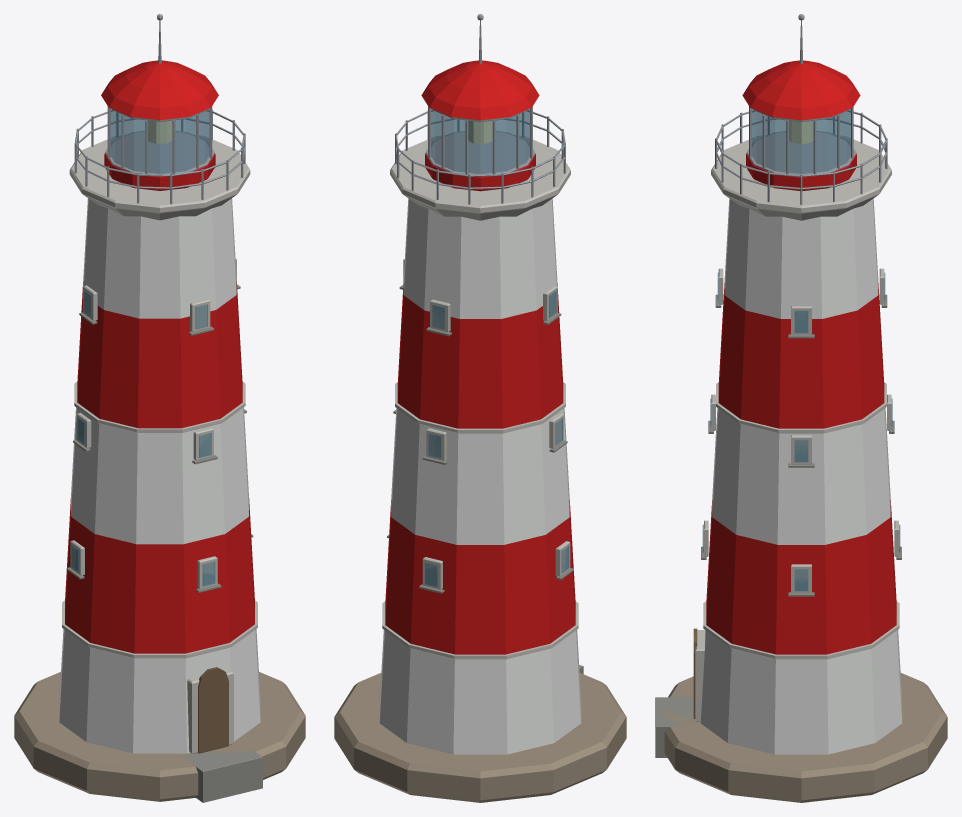
Rendered from HARBOR_06.obj.
3 renders of one model, left to right at view 1: azimuth 30°, elevation 25°; view 2: azimuth 150°, elevation 25°; view 3: azimuth 270°, elevation 25°, orthographic.
Visible parts, largest first — view 1: HARBOR_06__tower_white_paint, HARBOR_06__tower_traffic_red, HARBOR_06__plinth, HARBOR_06__gallery_floor, HARBOR_06__dome, HARBOR_06__lantern_glass, HARBOR_06__lantern_ring, HARBOR_06__window_frame, HARBOR_06__steps, HARBOR_06__tower_band_trim, HARBOR_06__door, HARBOR_06__window (+8 smaller); view 2: HARBOR_06__tower_white_paint, HARBOR_06__tower_traffic_red, HARBOR_06__plinth, HARBOR_06__gallery_floor, HARBOR_06__dome, HARBOR_06__lantern_glass, HARBOR_06__lantern_ring, HARBOR_06__window_frame, HARBOR_06__tower_band_trim, HARBOR_06__window, HARBOR_06__railing_rails, HARBOR_06__lantern_base (+5 smaller); view 3: HARBOR_06__tower_white_paint, HARBOR_06__tower_traffic_red, HARBOR_06__plinth, HARBOR_06__gallery_floor, HARBOR_06__dome, HARBOR_06__lantern_glass, HARBOR_06__lantern_ring, HARBOR_06__window_frame, HARBOR_06__tower_band_trim, HARBOR_06__railing_rails, HARBOR_06__steps, HARBOR_06__lantern_base (+7 smaller).
Part boxes in pixels (x1=…): HARBOR_06__tower_white_paint: x1=59, y1=198, x2=260, y2=753; HARBOR_06__tower_traffic_red: x1=65, y1=281, x2=254, y2=653; HARBOR_06__plinth: x1=14, y1=672, x2=305, y2=801; HARBOR_06__gallery_floor: x1=69, y1=135, x2=250, y2=213; HARBOR_06__dome: x1=101, y1=60, x2=218, y2=120; HARBOR_06__lantern_glass: x1=110, y1=108, x2=209, y2=173; HARBOR_06__lantern_ring: x1=105, y1=109, x2=214, y2=176; HARBOR_06__window_frame: x1=70, y1=259, x2=236, y2=588; HARBOR_06__steps: x1=183, y1=750, x2=262, y2=802; HARBOR_06__tower_band_trim: x1=62, y1=382, x2=257, y2=658; HARBOR_06__door: x1=198, y1=681, x2=228, y2=753; HARBOR_06__window: x1=71, y1=290, x2=215, y2=586; HARBOR_06__tower_white_paint: x1=379, y1=198, x2=581, y2=754; HARBOR_06__tower_traffic_red: x1=385, y1=283, x2=575, y2=654; HARBOR_06__plinth: x1=334, y1=673, x2=626, y2=802; HARBOR_06__gallery_floor: x1=390, y1=135, x2=570, y2=213; HARBOR_06__dome: x1=421, y1=60, x2=539, y2=120; HARBOR_06__lantern_glass: x1=431, y1=109, x2=529, y2=173; HARBOR_06__lantern_ring: x1=425, y1=109, x2=535, y2=176; HARBOR_06__window_frame: x1=403, y1=259, x2=570, y2=589; HARBOR_06__tower_band_trim: x1=382, y1=382, x2=578, y2=659; HARBOR_06__window: x1=425, y1=290, x2=569, y2=586; HARBOR_06__railing_rails: x1=395, y1=110, x2=565, y2=189; HARBOR_06__lantern_base: x1=425, y1=153, x2=535, y2=191; HARBOR_06__tower_white_paint: x1=700, y1=198, x2=902, y2=754; HARBOR_06__tower_traffic_red: x1=706, y1=283, x2=896, y2=654; HARBOR_06__plinth: x1=661, y1=673, x2=947, y2=802; HARBOR_06__gallery_floor: x1=711, y1=135, x2=891, y2=213; HARBOR_06__dome: x1=742, y1=60, x2=860, y2=120; HARBOR_06__lantern_glass: x1=751, y1=109, x2=850, y2=173; HARBOR_06__lantern_ring: x1=746, y1=109, x2=856, y2=174; HARBOR_06__window_frame: x1=704, y1=268, x2=898, y2=593; HARBOR_06__tower_band_trim: x1=703, y1=382, x2=899, y2=659; HARBOR_06__railing_rails: x1=715, y1=110, x2=887, y2=189; HARBOR_06__steps: x1=655, y1=697, x2=696, y2=757; HARBOR_06__lantern_base: x1=746, y1=153, x2=856, y2=190.
Size of the model in its own units: 8.4 by 23.15 by 8.4.
